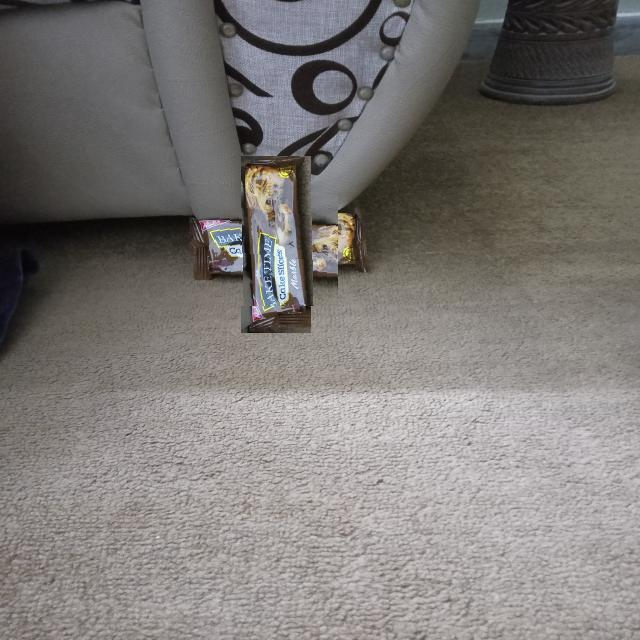Plastic: (214, 182, 338, 306)
